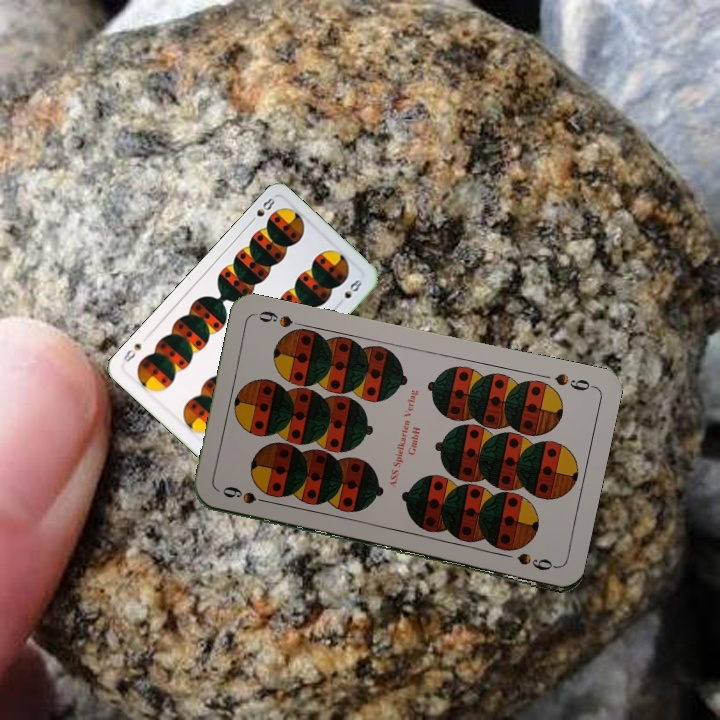S8: (245, 194, 278, 227)
S9: (218, 484, 275, 507), (551, 369, 597, 394)
